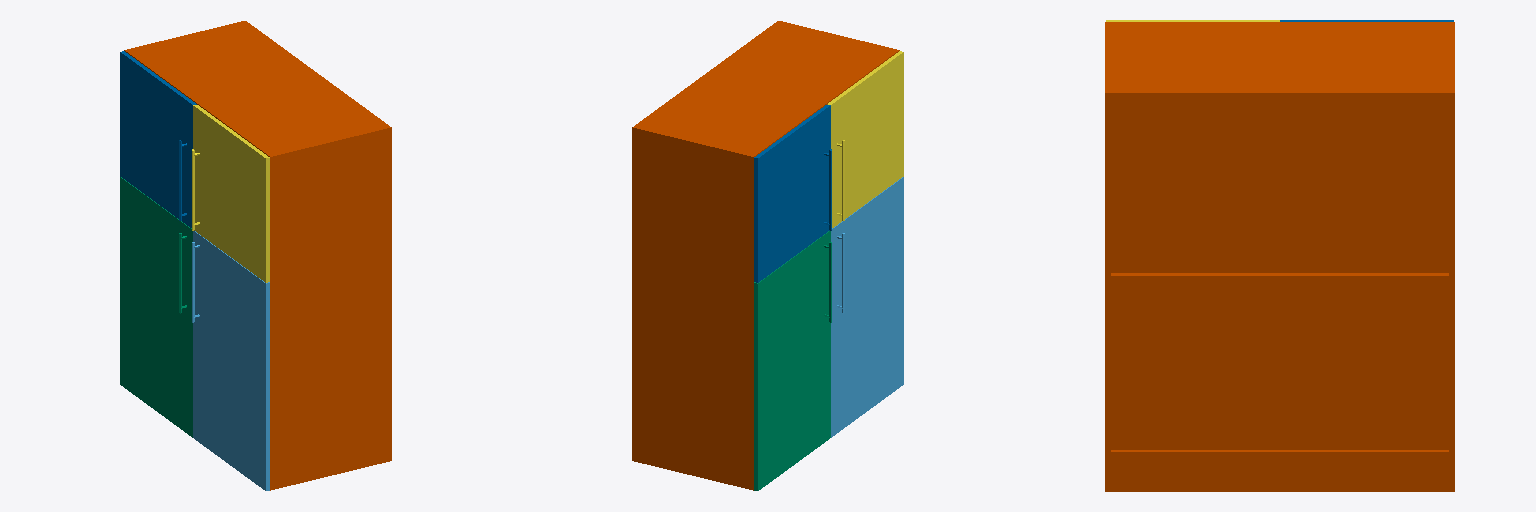
The robot description file, URDF, robot "partnet_30224544f65279f24c3aee8e9d3a6ffa":
<?xml version="1.0" ?>
<robot name="partnet_30224544f65279f24c3aee8e9d3a6ffa">
	<link name="base"/>
	<link name="link_0">
		<visual name="cabinet_door_surface-17">
			<origin xyz="-0.6204847472547278 -0.7632600069046019 -0.286186462610294"/>
			<geometry>
				<mesh filename="textured_objs/original-45.obj"/>
			</geometry>
		</visual>
		<visual name="handle-18">
			<origin xyz="-0.6204847472547278 -0.7632600069046019 -0.286186462610294"/>
			<geometry>
				<mesh filename="textured_objs/original-48.obj"/>
			</geometry>
		</visual>
		<visual name="handle-18">
			<origin xyz="-0.6204847472547278 -0.7632600069046019 -0.286186462610294"/>
			<geometry>
				<mesh filename="textured_objs/original-47.obj"/>
			</geometry>
		</visual>
		<visual name="handle-18">
			<origin xyz="-0.6204847472547278 -0.7632600069046019 -0.286186462610294"/>
			<geometry>
				<mesh filename="textured_objs/original-49.obj"/>
			</geometry>
		</visual>
		<collision>
			<origin xyz="-0.6204847472547278 -0.7632600069046019 -0.286186462610294"/>
			<geometry>
				<mesh filename="textured_objs/original-45.obj"/>
			</geometry>
		</collision>
		<collision>
			<origin xyz="-0.6204847472547278 -0.7632600069046019 -0.286186462610294"/>
			<geometry>
				<mesh filename="textured_objs/original-48.obj"/>
			</geometry>
		</collision>
		<collision>
			<origin xyz="-0.6204847472547278 -0.7632600069046019 -0.286186462610294"/>
			<geometry>
				<mesh filename="textured_objs/original-47.obj"/>
			</geometry>
		</collision>
		<collision>
			<origin xyz="-0.6204847472547278 -0.7632600069046019 -0.286186462610294"/>
			<geometry>
				<mesh filename="textured_objs/original-49.obj"/>
			</geometry>
		</collision>
	</link>
	<joint name="joint_0" type="revolute">
		<origin xyz="0.6204847472547278 0.7632600069046019 0.286186462610294"/>
		<axis xyz="0 1 0"/>
		<child link="link_0"/>
		<parent link="link_4"/>
		<limit lower="0.0" upper="1.6776104770169495"/>
	</joint>
	<link name="link_1">
		<visual name="cabinet_door_surface-15">
			<origin xyz="0.5835766339378818 0.7735790014266968 -0.284628005277689"/>
			<geometry>
				<mesh filename="textured_objs/original-32.obj"/>
			</geometry>
		</visual>
		<visual name="handle-16">
			<origin xyz="0.5835766339378818 0.7735790014266968 -0.284628005277689"/>
			<geometry>
				<mesh filename="textured_objs/original-36.obj"/>
			</geometry>
		</visual>
		<visual name="handle-16">
			<origin xyz="0.5835766339378818 0.7735790014266968 -0.284628005277689"/>
			<geometry>
				<mesh filename="textured_objs/original-34.obj"/>
			</geometry>
		</visual>
		<visual name="handle-16">
			<origin xyz="0.5835766339378818 0.7735790014266968 -0.284628005277689"/>
			<geometry>
				<mesh filename="textured_objs/original-35.obj"/>
			</geometry>
		</visual>
		<collision>
			<origin xyz="0.5835766339378818 0.7735790014266968 -0.284628005277689"/>
			<geometry>
				<mesh filename="textured_objs/original-32.obj"/>
			</geometry>
		</collision>
		<collision>
			<origin xyz="0.5835766339378818 0.7735790014266968 -0.284628005277689"/>
			<geometry>
				<mesh filename="textured_objs/original-36.obj"/>
			</geometry>
		</collision>
		<collision>
			<origin xyz="0.5835766339378818 0.7735790014266968 -0.284628005277689"/>
			<geometry>
				<mesh filename="textured_objs/original-34.obj"/>
			</geometry>
		</collision>
		<collision>
			<origin xyz="0.5835766339378818 0.7735790014266968 -0.284628005277689"/>
			<geometry>
				<mesh filename="textured_objs/original-35.obj"/>
			</geometry>
		</collision>
	</link>
	<joint name="joint_1" type="revolute">
		<origin xyz="-0.5835766339378818 -0.7735790014266968 0.284628005277689"/>
		<axis xyz="0 -1 0"/>
		<child link="link_1"/>
		<parent link="link_4"/>
		<limit lower="0.0" upper="1.6776104770169495"/>
	</joint>
	<link name="link_2">
		<visual name="cabinet_door_surface-13">
			<origin xyz="-0.6204847472547278 -0.7632600069046019 -0.286186462610294"/>
			<geometry>
				<mesh filename="textured_objs/original-43.obj"/>
			</geometry>
		</visual>
		<visual name="handle-14">
			<origin xyz="-0.6204847472547278 -0.7632600069046019 -0.286186462610294"/>
			<geometry>
				<mesh filename="textured_objs/original-41.obj"/>
			</geometry>
		</visual>
		<visual name="handle-14">
			<origin xyz="-0.6204847472547278 -0.7632600069046019 -0.286186462610294"/>
			<geometry>
				<mesh filename="textured_objs/original-40.obj"/>
			</geometry>
		</visual>
		<visual name="handle-14">
			<origin xyz="-0.6204847472547278 -0.7632600069046019 -0.286186462610294"/>
			<geometry>
				<mesh filename="textured_objs/original-42.obj"/>
			</geometry>
		</visual>
		<collision>
			<origin xyz="-0.6204847472547278 -0.7632600069046019 -0.286186462610294"/>
			<geometry>
				<mesh filename="textured_objs/original-43.obj"/>
			</geometry>
		</collision>
		<collision>
			<origin xyz="-0.6204847472547278 -0.7632600069046019 -0.286186462610294"/>
			<geometry>
				<mesh filename="textured_objs/original-41.obj"/>
			</geometry>
		</collision>
		<collision>
			<origin xyz="-0.6204847472547278 -0.7632600069046019 -0.286186462610294"/>
			<geometry>
				<mesh filename="textured_objs/original-40.obj"/>
			</geometry>
		</collision>
		<collision>
			<origin xyz="-0.6204847472547278 -0.7632600069046019 -0.286186462610294"/>
			<geometry>
				<mesh filename="textured_objs/original-42.obj"/>
			</geometry>
		</collision>
	</link>
	<joint name="joint_2" type="revolute">
		<origin xyz="0.6204847472547278 0.7632600069046019 0.286186462610294"/>
		<axis xyz="0 1 0"/>
		<child link="link_2"/>
		<parent link="link_4"/>
		<limit lower="0.0" upper="1.6776104770169495"/>
	</joint>
	<link name="link_3">
		<visual name="cabinet_door_surface-11">
			<origin xyz="0.5835766339378818 0.7735790014266968 -0.284628005277689"/>
			<geometry>
				<mesh filename="textured_objs/original-21.obj"/>
			</geometry>
		</visual>
		<visual name="handle-12">
			<origin xyz="0.5835766339378818 0.7735790014266968 -0.284628005277689"/>
			<geometry>
				<mesh filename="textured_objs/original-23.obj"/>
			</geometry>
		</visual>
		<visual name="handle-12">
			<origin xyz="0.5835766339378818 0.7735790014266968 -0.284628005277689"/>
			<geometry>
				<mesh filename="textured_objs/original-24.obj"/>
			</geometry>
		</visual>
		<visual name="handle-12">
			<origin xyz="0.5835766339378818 0.7735790014266968 -0.284628005277689"/>
			<geometry>
				<mesh filename="textured_objs/original-25.obj"/>
			</geometry>
		</visual>
		<collision>
			<origin xyz="0.5835766339378818 0.7735790014266968 -0.284628005277689"/>
			<geometry>
				<mesh filename="textured_objs/original-21.obj"/>
			</geometry>
		</collision>
		<collision>
			<origin xyz="0.5835766339378818 0.7735790014266968 -0.284628005277689"/>
			<geometry>
				<mesh filename="textured_objs/original-23.obj"/>
			</geometry>
		</collision>
		<collision>
			<origin xyz="0.5835766339378818 0.7735790014266968 -0.284628005277689"/>
			<geometry>
				<mesh filename="textured_objs/original-24.obj"/>
			</geometry>
		</collision>
		<collision>
			<origin xyz="0.5835766339378818 0.7735790014266968 -0.284628005277689"/>
			<geometry>
				<mesh filename="textured_objs/original-25.obj"/>
			</geometry>
		</collision>
	</link>
	<joint name="joint_3" type="revolute">
		<origin xyz="-0.5835766339378818 -0.7735790014266968 0.284628005277689"/>
		<axis xyz="0 -1 0"/>
		<child link="link_3"/>
		<parent link="link_4"/>
		<limit lower="0.0" upper="1.6776104770169495"/>
	</joint>
	<link name="link_4">
		<visual name="shelf-3">
			<origin xyz="0 0 0"/>
			<geometry>
				<mesh filename="textured_objs/original-30.obj"/>
			</geometry>
		</visual>
		<visual name="shelf-4">
			<origin xyz="0 0 0"/>
			<geometry>
				<mesh filename="textured_objs/original-37.obj"/>
			</geometry>
		</visual>
		<visual name="shelf-5">
			<origin xyz="0 0 0"/>
			<geometry>
				<mesh filename="textured_objs/original-27.obj"/>
			</geometry>
		</visual>
		<visual name="shelf-5">
			<origin xyz="0 0 0"/>
			<geometry>
				<mesh filename="textured_objs/original-28.obj"/>
			</geometry>
		</visual>
		<visual name="shelf-6">
			<origin xyz="0 0 0"/>
			<geometry>
				<mesh filename="textured_objs/original-19.obj"/>
			</geometry>
		</visual>
		<visual name="vertical_side_panel-19">
			<origin xyz="0 0 0"/>
			<geometry>
				<mesh filename="textured_objs/original-7.obj"/>
			</geometry>
		</visual>
		<visual name="vertical_side_panel-20">
			<origin xyz="0 0 0"/>
			<geometry>
				<mesh filename="textured_objs/original-4.obj"/>
			</geometry>
		</visual>
		<visual name="back_panel-21">
			<origin xyz="0 0 0"/>
			<geometry>
				<mesh filename="textured_objs/original-12.obj"/>
			</geometry>
		</visual>
		<visual name="bottom_panel-22">
			<origin xyz="0 0 0"/>
			<geometry>
				<mesh filename="textured_objs/original-10.obj"/>
			</geometry>
		</visual>
		<visual name="top_panel-23">
			<origin xyz="0 0 0"/>
			<geometry>
				<mesh filename="textured_objs/original-17.obj"/>
			</geometry>
		</visual>
		<visual name="frame_horizontal_bar-24">
			<origin xyz="0 0 0"/>
			<geometry>
				<mesh filename="textured_objs/original-14.obj"/>
			</geometry>
		</visual>
		<visual name="frame_horizontal_bar-25">
			<origin xyz="0 0 0"/>
			<geometry>
				<mesh filename="textured_objs/original-13.obj"/>
			</geometry>
		</visual>
		<visual name="frame_horizontal_bar-26">
			<origin xyz="0 0 0"/>
			<geometry>
				<mesh filename="textured_objs/original-11.obj"/>
			</geometry>
		</visual>
		<visual name="frame_vertical_bar-27">
			<origin xyz="0 0 0"/>
			<geometry>
				<mesh filename="textured_objs/original-6.obj"/>
			</geometry>
		</visual>
		<visual name="frame_vertical_bar-28">
			<origin xyz="0 0 0"/>
			<geometry>
				<mesh filename="textured_objs/original-3.obj"/>
			</geometry>
		</visual>
		<visual name="frame_horizontal_bar-29">
			<origin xyz="0 0 0"/>
			<geometry>
				<mesh filename="textured_objs/original-9.obj"/>
			</geometry>
		</visual>
		<visual name="frame_horizontal_bar-30">
			<origin xyz="0 0 0"/>
			<geometry>
				<mesh filename="textured_objs/original-16.obj"/>
			</geometry>
		</visual>
		<collision>
			<origin xyz="0 0 0"/>
			<geometry>
				<mesh filename="textured_objs/original-30.obj"/>
			</geometry>
		</collision>
		<collision>
			<origin xyz="0 0 0"/>
			<geometry>
				<mesh filename="textured_objs/original-37.obj"/>
			</geometry>
		</collision>
		<collision>
			<origin xyz="0 0 0"/>
			<geometry>
				<mesh filename="textured_objs/original-27.obj"/>
			</geometry>
		</collision>
		<collision>
			<origin xyz="0 0 0"/>
			<geometry>
				<mesh filename="textured_objs/original-28.obj"/>
			</geometry>
		</collision>
		<collision>
			<origin xyz="0 0 0"/>
			<geometry>
				<mesh filename="textured_objs/original-19.obj"/>
			</geometry>
		</collision>
		<collision>
			<origin xyz="0 0 0"/>
			<geometry>
				<mesh filename="textured_objs/original-7.obj"/>
			</geometry>
		</collision>
		<collision>
			<origin xyz="0 0 0"/>
			<geometry>
				<mesh filename="textured_objs/original-4.obj"/>
			</geometry>
		</collision>
		<collision>
			<origin xyz="0 0 0"/>
			<geometry>
				<mesh filename="textured_objs/original-12.obj"/>
			</geometry>
		</collision>
		<collision>
			<origin xyz="0 0 0"/>
			<geometry>
				<mesh filename="textured_objs/original-10.obj"/>
			</geometry>
		</collision>
		<collision>
			<origin xyz="0 0 0"/>
			<geometry>
				<mesh filename="textured_objs/original-17.obj"/>
			</geometry>
		</collision>
		<collision>
			<origin xyz="0 0 0"/>
			<geometry>
				<mesh filename="textured_objs/original-14.obj"/>
			</geometry>
		</collision>
		<collision>
			<origin xyz="0 0 0"/>
			<geometry>
				<mesh filename="textured_objs/original-13.obj"/>
			</geometry>
		</collision>
		<collision>
			<origin xyz="0 0 0"/>
			<geometry>
				<mesh filename="textured_objs/original-11.obj"/>
			</geometry>
		</collision>
		<collision>
			<origin xyz="0 0 0"/>
			<geometry>
				<mesh filename="textured_objs/original-6.obj"/>
			</geometry>
		</collision>
		<collision>
			<origin xyz="0 0 0"/>
			<geometry>
				<mesh filename="textured_objs/original-3.obj"/>
			</geometry>
		</collision>
		<collision>
			<origin xyz="0 0 0"/>
			<geometry>
				<mesh filename="textured_objs/original-9.obj"/>
			</geometry>
		</collision>
		<collision>
			<origin xyz="0 0 0"/>
			<geometry>
				<mesh filename="textured_objs/original-16.obj"/>
			</geometry>
		</collision>
	</link>
	<joint name="joint_4" type="fixed">
		<origin rpy="1.570796326794897 0 -1.570796326794897" xyz="0 0 0"/>
		<child link="link_4"/>
		<parent link="base"/>
	</joint>
</robot>

--- Render facts (derived) ---
The picture shows the robot from 3 angles, left to right: view 1: azimuth 30°, elevation 25°; view 2: azimuth 150°, elevation 25°; view 3: azimuth 270°, elevation 25°; orthographic projection.
Model partnet_30224544f65279f24c3aee8e9d3a6ffa with 6 links and 5 joints (4 revolute, 1 fixed), rooted at base, posed all joints at 0.
Visible links, largest first — view 1: link_4, link_0, link_1, link_2, link_3; view 2: link_4, link_1, link_0, link_3, link_2; view 3: link_4.
Link boxes in pixels (x1,y1,x2,y2): link_4: (124,21,391,490); link_0: (192,231,269,490); link_1: (120,177,192,437); link_2: (192,105,269,282); link_3: (120,51,196,227); link_4: (632,21,899,490); link_1: (754,231,831,490); link_0: (831,177,903,437); link_3: (754,105,831,282); link_2: (827,51,903,227); link_4: (1105,22,1454,491).
Bounding box of the posed robot: 0.643 × 1.22 × 1.54 m (x, y, z).
Meshes: 33 distinct files referenced, 33 mesh visuals loaded (33 OBJ).
